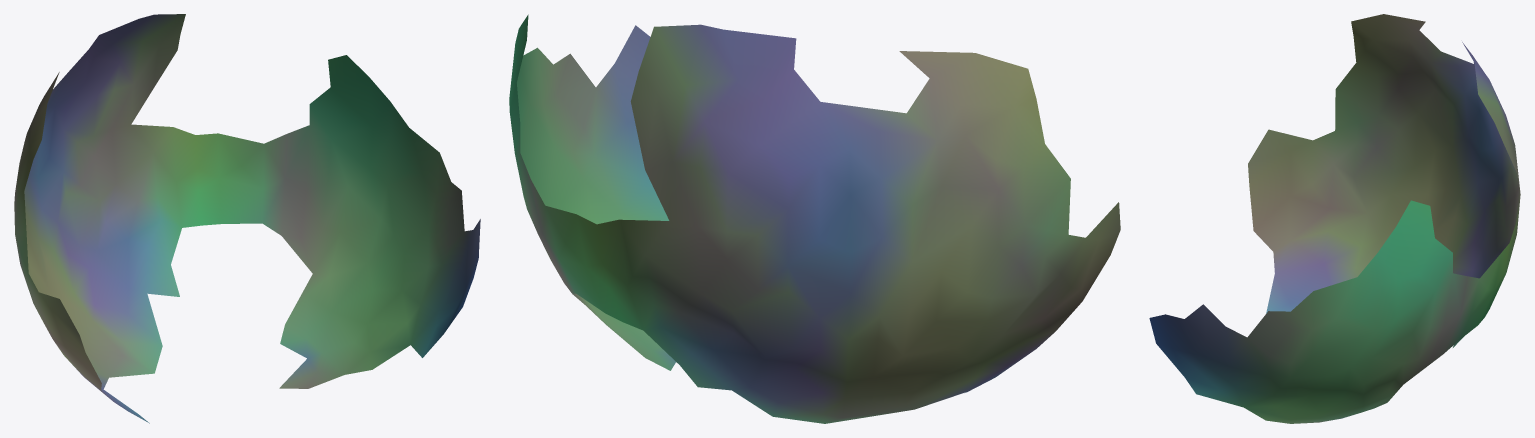
The model's file is space-nebulae-nebula_v34.glb.
The picture shows the model from 3 angles, left to right: view 1: azimuth 30°, elevation 25°; view 2: azimuth 150°, elevation 25°; view 3: azimuth 270°, elevation 25°; orthographic projection. The views are drawn at different scales.
Parts seen in each view (by area): view 1: Nebula_v34; view 2: Nebula_v34; view 3: Nebula_v34.
Part boxes in pixels (x1,y1,x2,y2): Nebula_v34: (14, 14, 480, 423); Nebula_v34: (509, 14, 1120, 423); Nebula_v34: (1149, 14, 1520, 423).
Size of the model in its own units: 0.5 by 0.3922 by 0.408.
